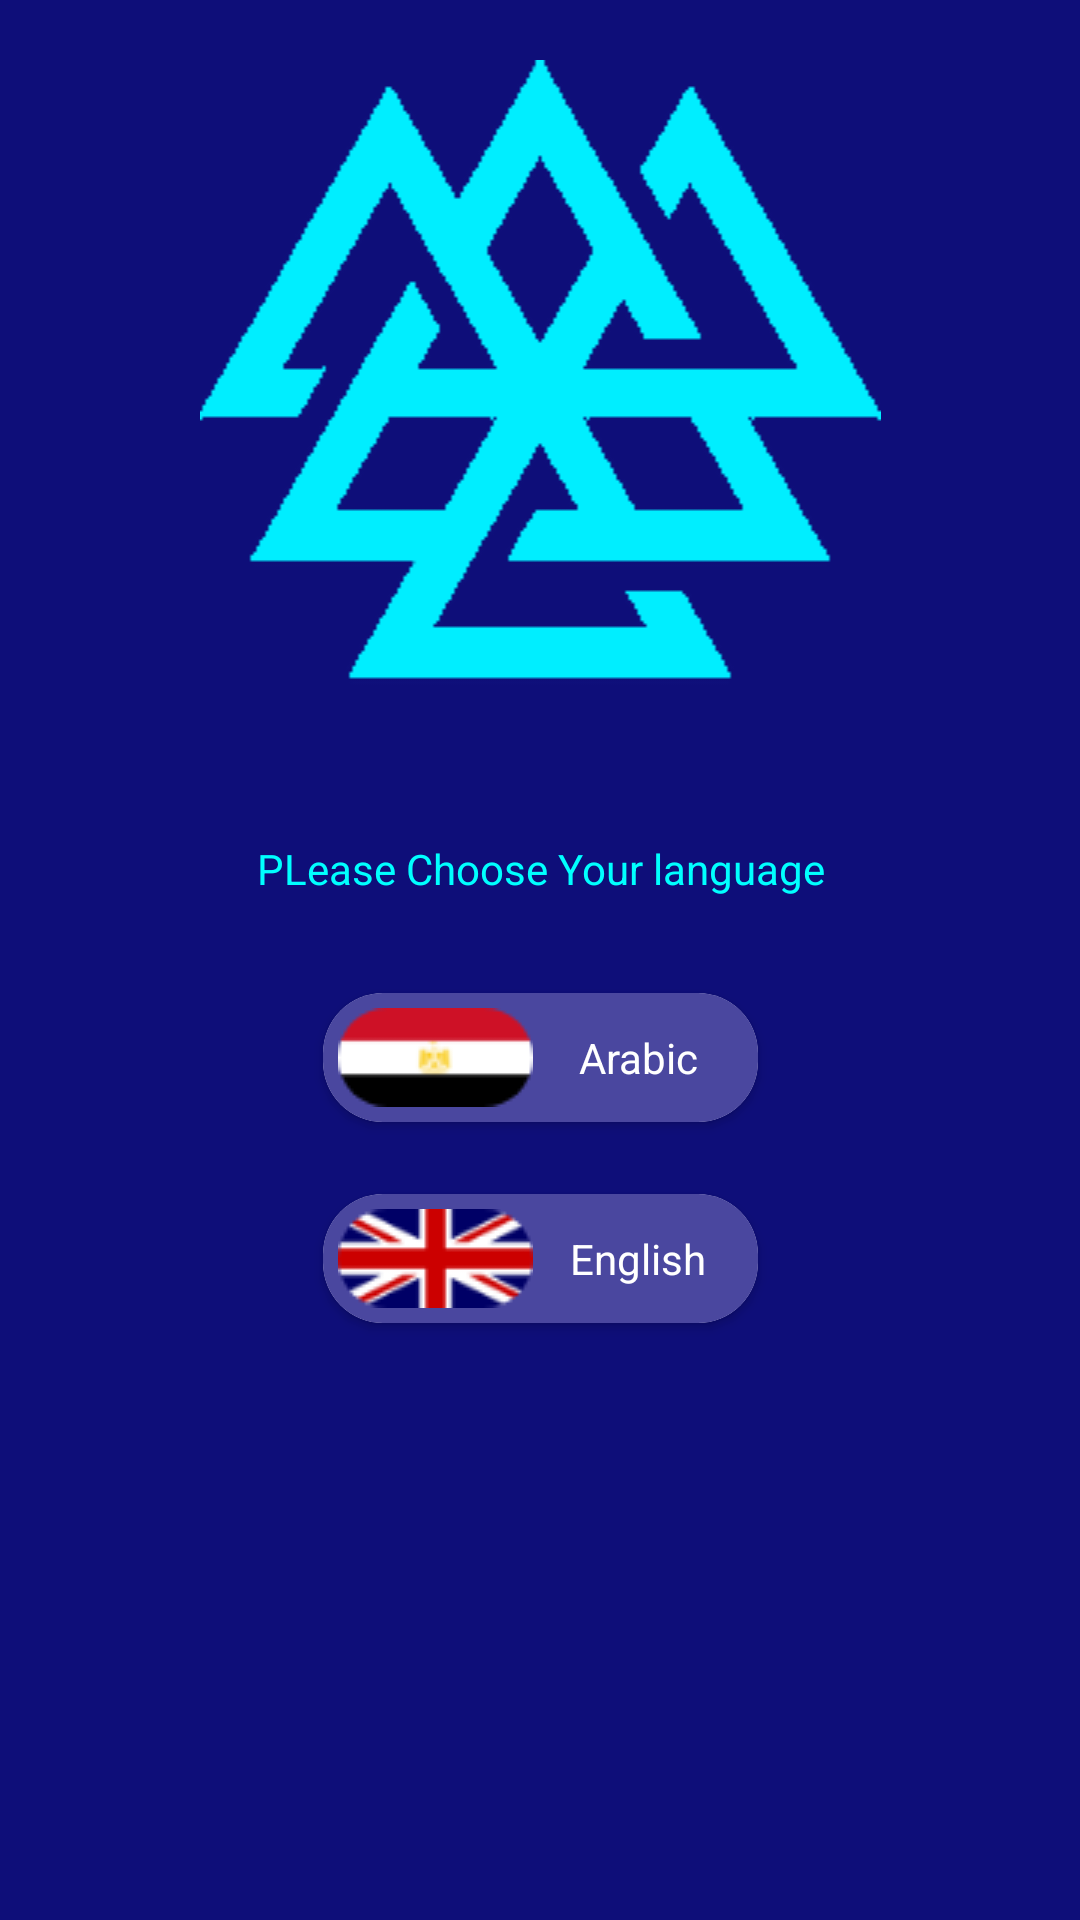

Screen size 1080*1920. Icon name, then its box in pixels as region(x1, y1, x2, y2):
egypt lan: region(338, 1008, 533, 1107)
